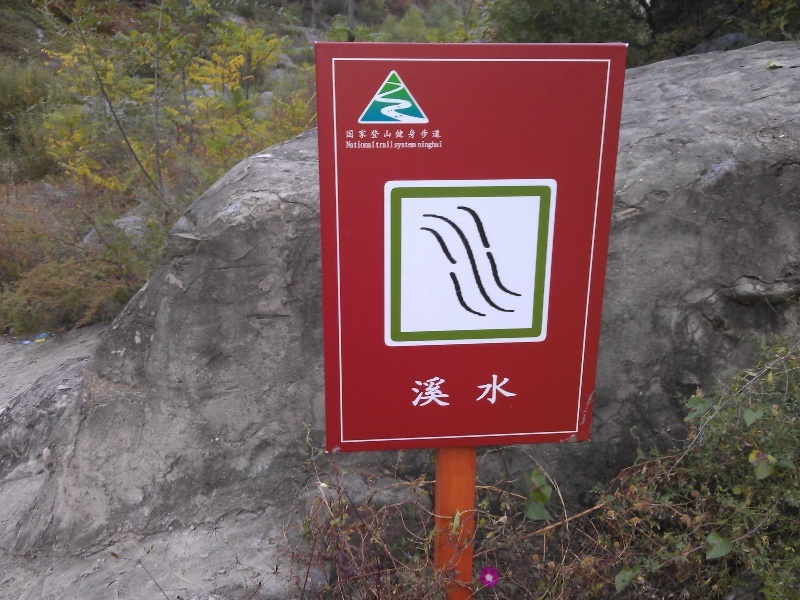text: (417, 373, 432, 409), (433, 373, 448, 409), (449, 373, 464, 409), (465, 373, 480, 409), (481, 373, 496, 409), (497, 373, 512, 409), (409, 373, 416, 409), (513, 373, 520, 409), (353, 129, 368, 139), (369, 129, 384, 139), (385, 129, 400, 139), (401, 129, 416, 139), (417, 129, 432, 139), (401, 142, 417, 150), (353, 141, 368, 149), (417, 141, 432, 149), (433, 129, 442, 139), (433, 141, 443, 149), (385, 141, 394, 149), (345, 129, 352, 139), (376, 141, 384, 149), (346, 141, 352, 149), (369, 141, 375, 149), (394, 142, 400, 150)
